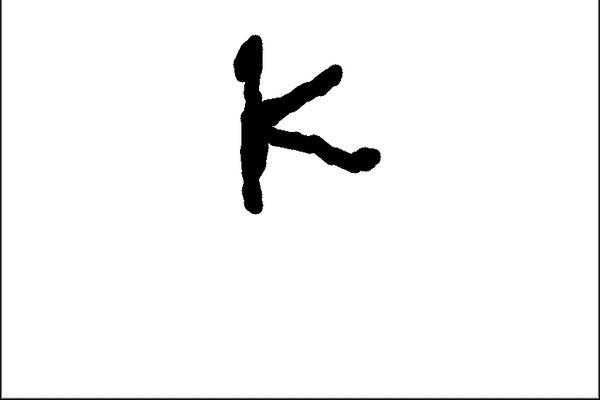K: (228, 28, 387, 222)
